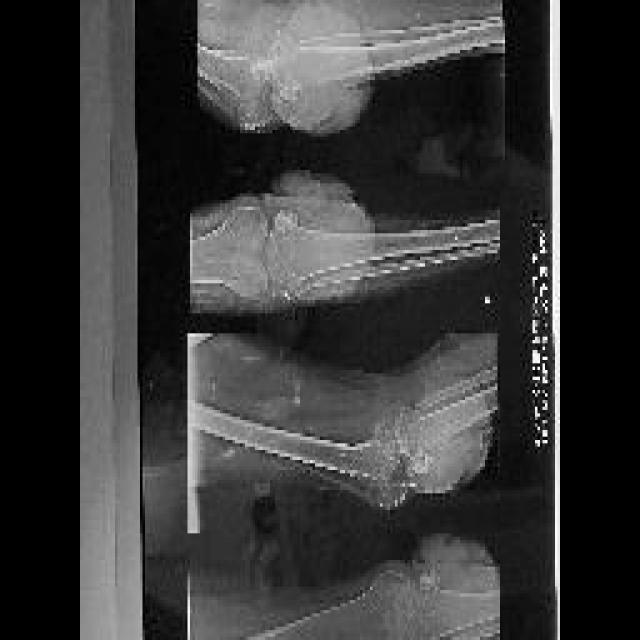bone-cancer: (250, 170, 381, 305), (271, 0, 378, 133), (388, 380, 490, 501), (399, 537, 499, 639)
